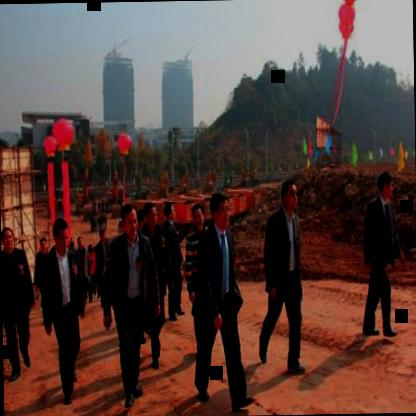head: (206, 186, 232, 232), (280, 174, 302, 214), (51, 218, 71, 256), (120, 199, 139, 237), (378, 168, 396, 199), (190, 201, 206, 235), (0, 221, 15, 252), (160, 201, 178, 226), (143, 198, 158, 226), (137, 209, 148, 234), (38, 234, 48, 254), (76, 230, 84, 250)
